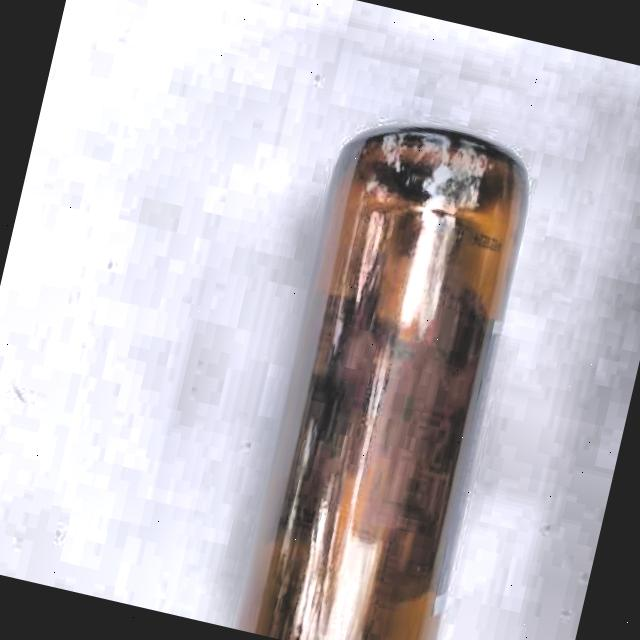glass: (217, 100, 556, 640)
